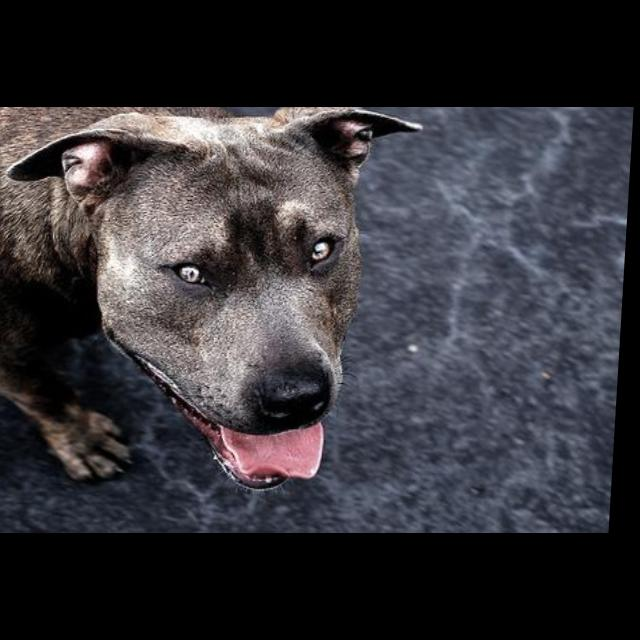amstaff: (1, 109, 426, 498)
